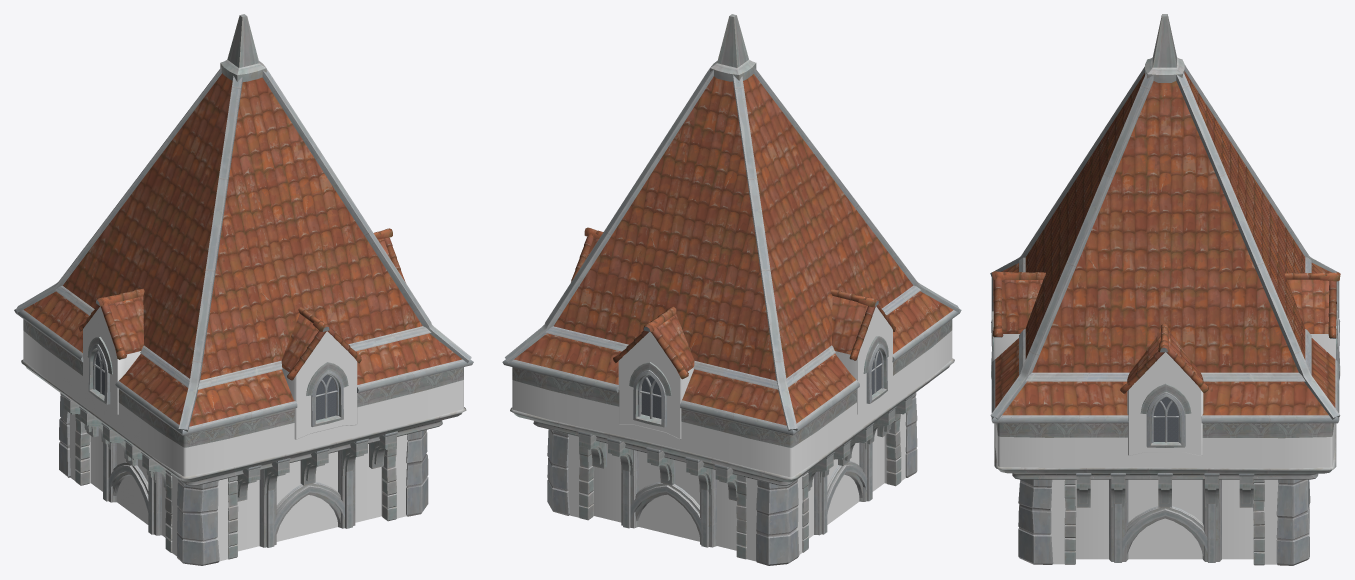
Rendered from SM_TowerF_Top_02_Window.fbx.
3 renders of one model, left to right at view 1: azimuth 30°, elevation 25°; view 2: azimuth 150°, elevation 25°; view 3: azimuth 270°, elevation 25°, orthographic. The views are drawn at different scales.
Parts seen in each view (by area): view 1: SM_TowerF_Top_02_Window_LOD0; view 2: SM_TowerF_Top_02_Window_LOD0; view 3: SM_TowerF_Top_02_Window_LOD0.
Boxes of the visible parts, bbox=[...] form: SM_TowerF_Top_02_Window_LOD0: bbox=[14, 14, 473, 565]; SM_TowerF_Top_02_Window_LOD0: bbox=[502, 14, 961, 565]; SM_TowerF_Top_02_Window_LOD0: bbox=[990, 14, 1340, 565].
Size of what is drawn, in the model's own units: 13.52 by 20.74 by 13.48.
